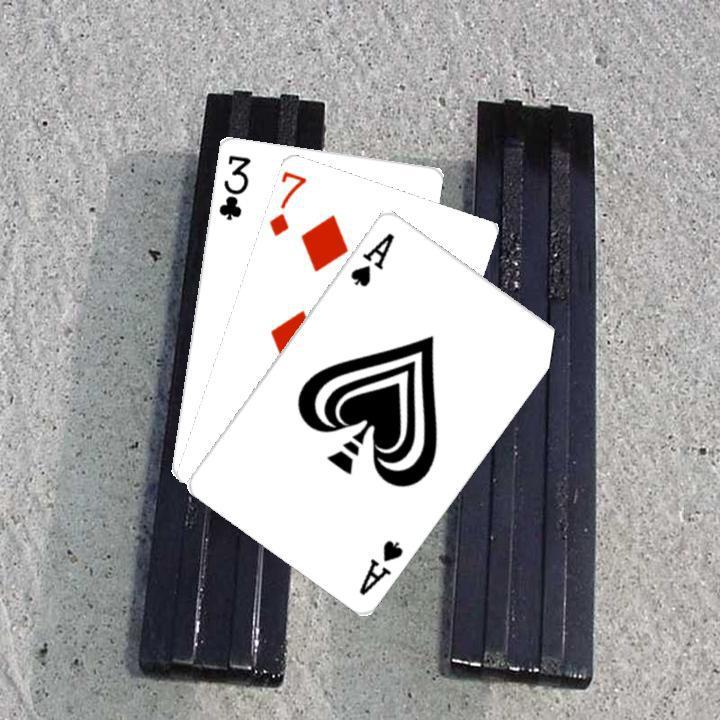3: (213, 150, 252, 222)
7: (264, 167, 309, 238)
A: (354, 534, 405, 597), (345, 228, 396, 288)
